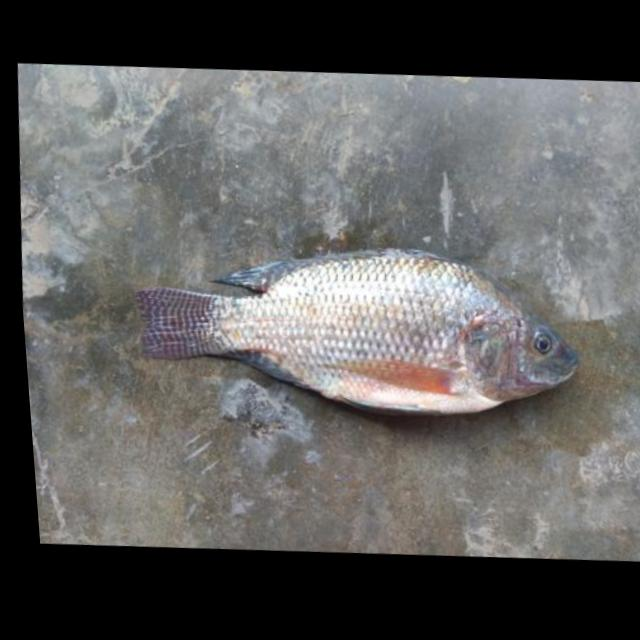Tilapia: (120, 222, 594, 430)
